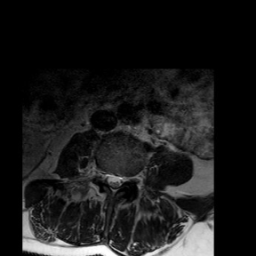CCS_normal: (110, 166, 117, 199)
LFS_stenosis: (123, 166, 130, 188)
LLS_normal: (117, 166, 123, 192)
RFS_normal: (97, 160, 104, 188)
RLS_normal: (104, 165, 110, 191)
